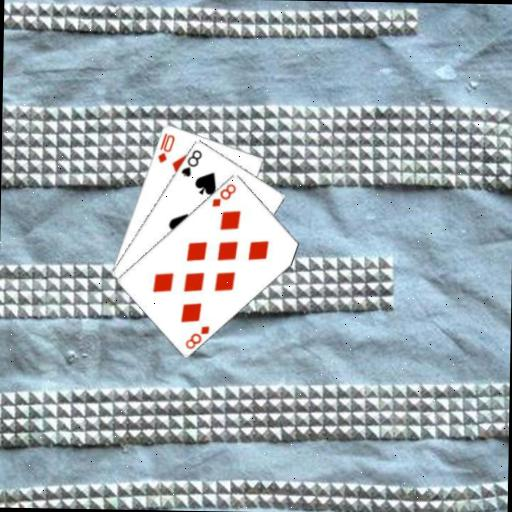10D: (155, 130, 177, 164)
8D: (209, 180, 238, 209), (182, 323, 211, 351)
8S: (178, 146, 204, 178)
